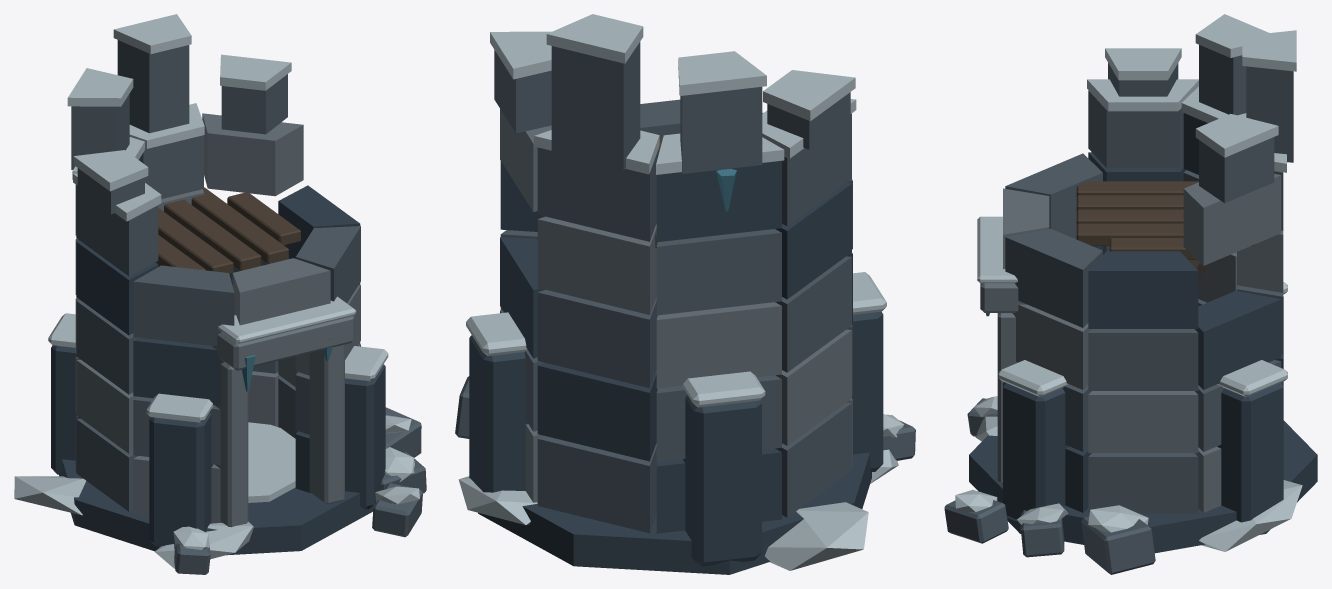
File: Frozen_Watchtower_Ruin.glb
3 views of the same model, side by side, from view 1: azimuth 30°, elevation 25°; view 2: azimuth 150°, elevation 25°; view 3: azimuth 270°, elevation 25° (orthographic). The views are drawn at different scales.
Visible parts, largest first — view 1: Frozen_Watchtower_Ruin; view 2: Frozen_Watchtower_Ruin; view 3: Frozen_Watchtower_Ruin.
Part boxes in pixels (x1,y1,x2,y2): Frozen_Watchtower_Ruin: [14, 14, 426, 574]; Frozen_Watchtower_Ruin: [455, 14, 915, 574]; Frozen_Watchtower_Ruin: [944, 14, 1317, 574].
Bounding box in the file's own units: 3.56 × 3.94 × 3.
